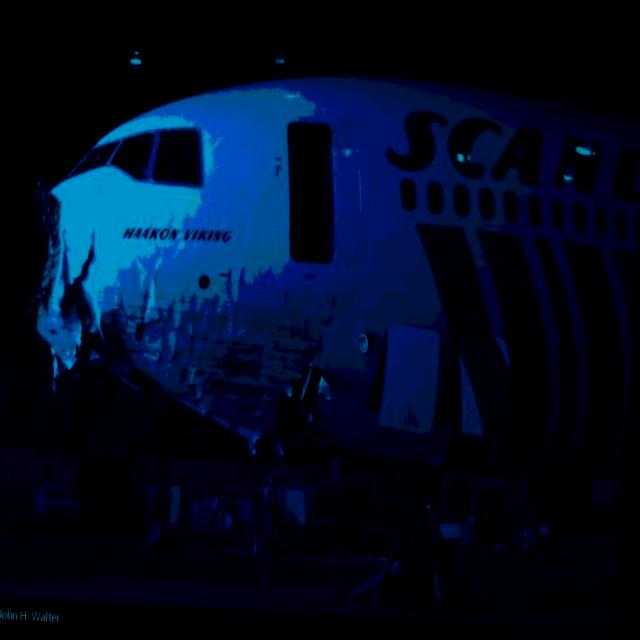crack: (24, 182, 111, 390), (248, 356, 334, 471)
